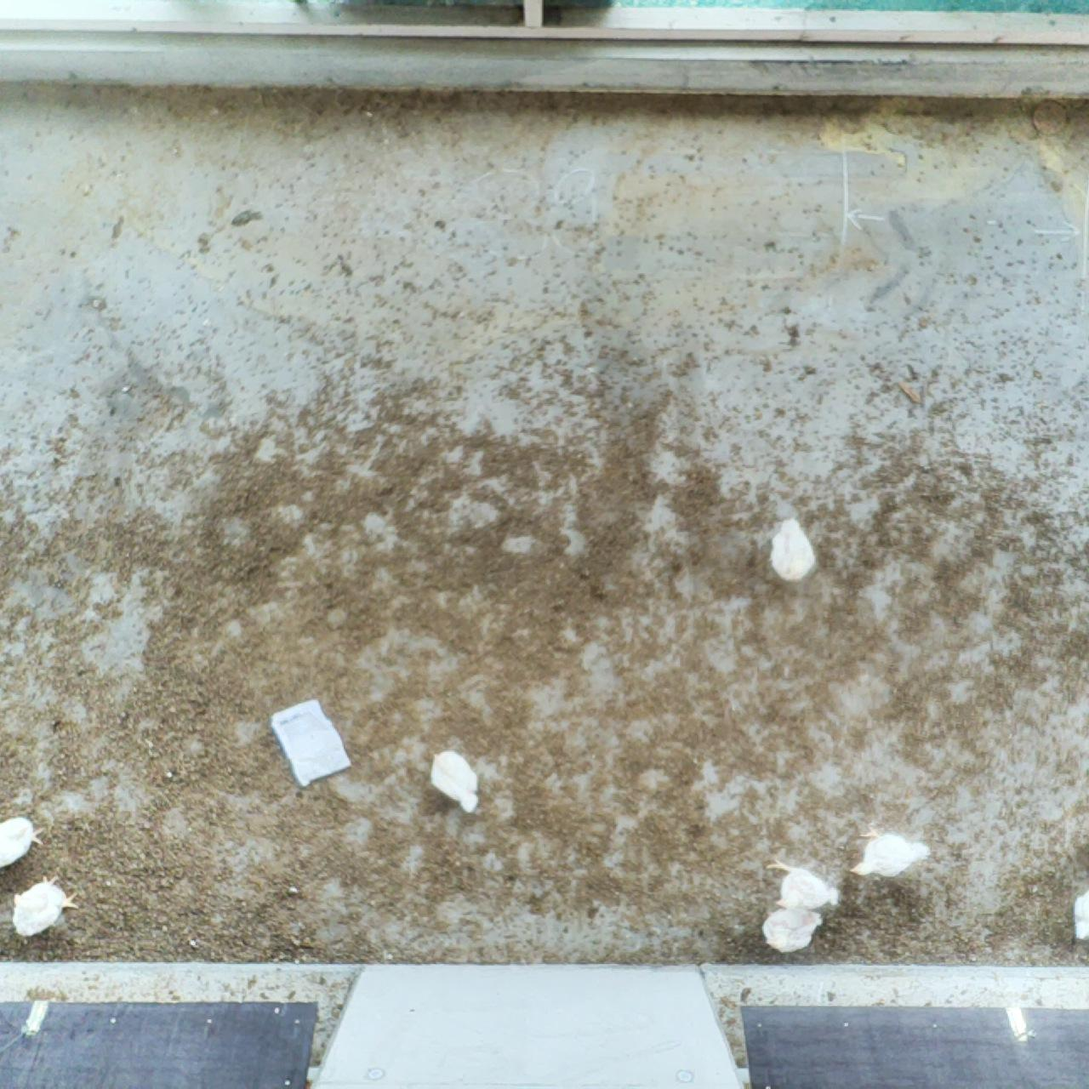chicken: (848, 821, 933, 879), (8, 872, 80, 939), (765, 855, 842, 911), (760, 904, 827, 956), (430, 748, 481, 814), (768, 515, 816, 583), (0, 814, 47, 870), (1069, 887, 1089, 942)
